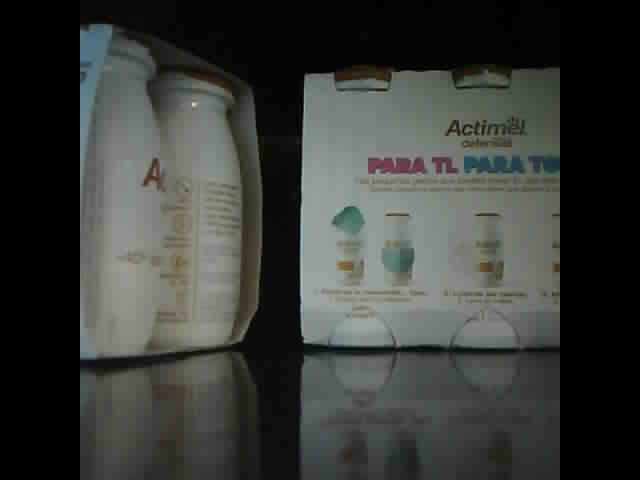actimel: (300, 64, 559, 352), (80, 21, 263, 361)
